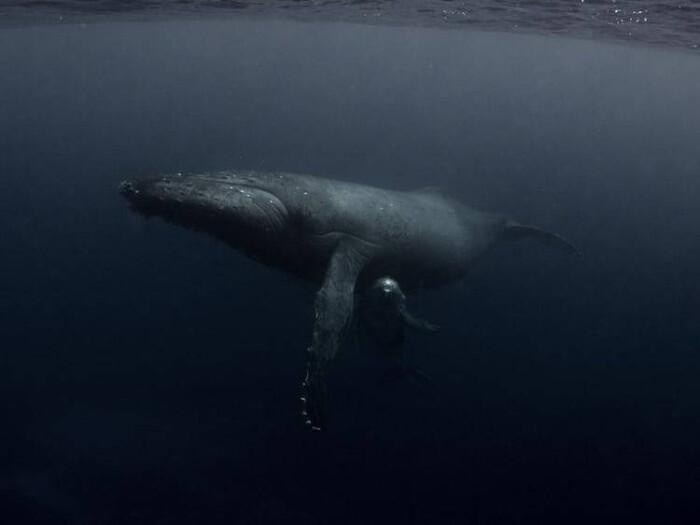fish: (112, 163, 588, 421)
